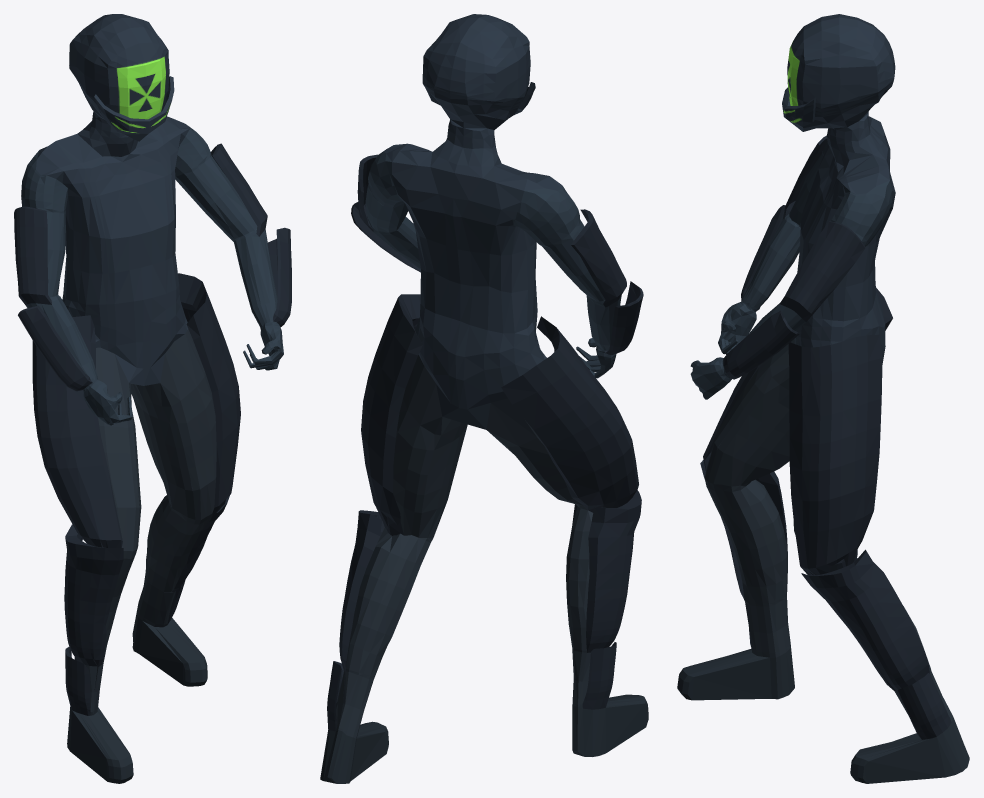
Rendered from Bastion_Stun_Recover_000019.obj.
The picture shows the model from 3 angles, left to right: view 1: azimuth 30°, elevation 25°; view 2: azimuth 150°, elevation 25°; view 3: azimuth 270°, elevation 25°; orthographic projection. The views are drawn at different scales.
Visible parts, largest first — view 1: Cube.002; view 2: Cube.002; view 3: Cube.002.
Part boxes in pixels (x1,y1,x2,y2): Cube.002: (14, 14, 291, 783); Cube.002: (320, 14, 648, 783); Cube.002: (677, 14, 969, 783).
Bounding box in the file's own units: 1.53 × 3.74 × 1.38.
